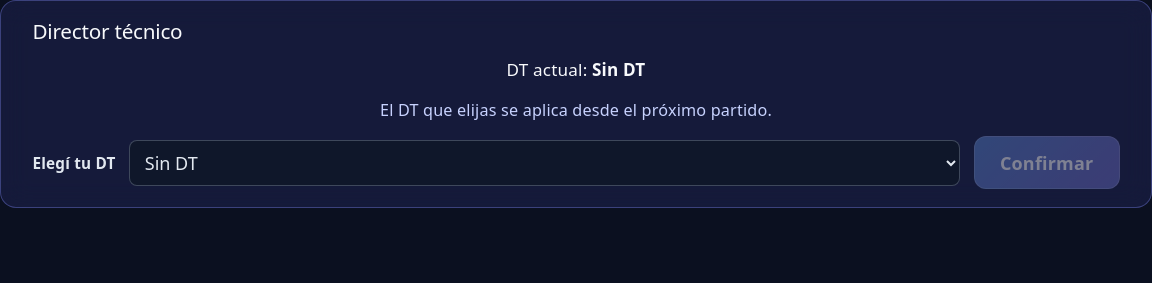
CoachSelector › Debería enviar behavior_id 20 y avisar con onChanged al elegir un DT
Select "DT ofensivo" in the dropdown: x=545, y=163 [129, 140, 960, 186]
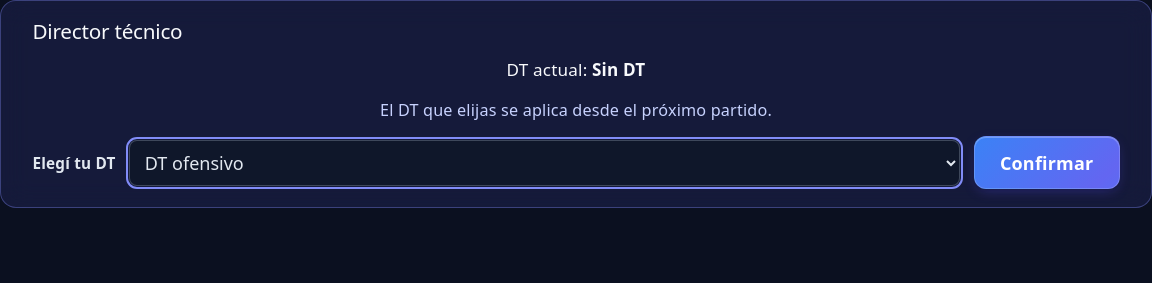
Click the button "Confirmar": x=1047, y=163 [974, 136, 1120, 189]
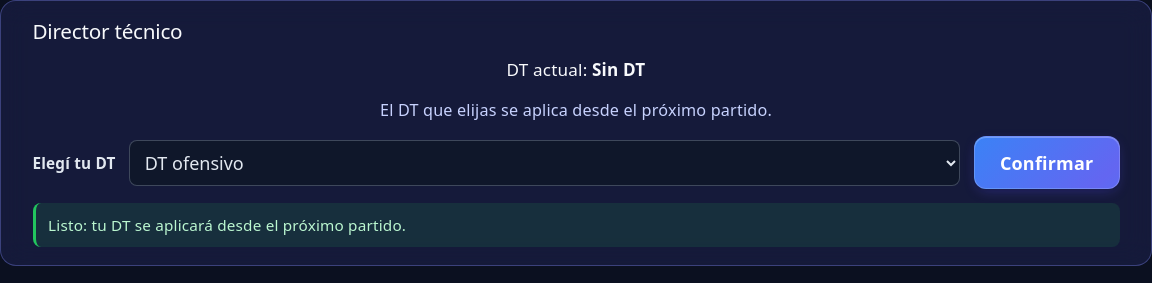
expect the message reads "Listo: tu DT se aplicará desde el próximo partido.": met, box [48, 215, 406, 235]
